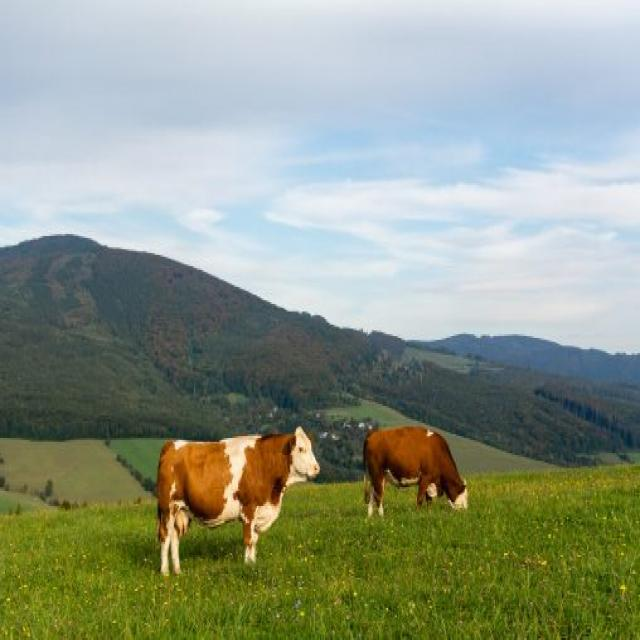cow: (148, 405, 328, 601), (350, 396, 484, 560)
